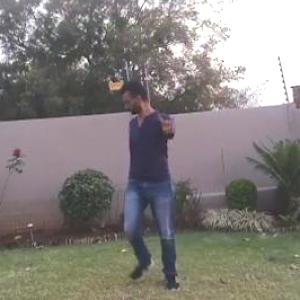takeoff-hand: (153, 107, 180, 140)
